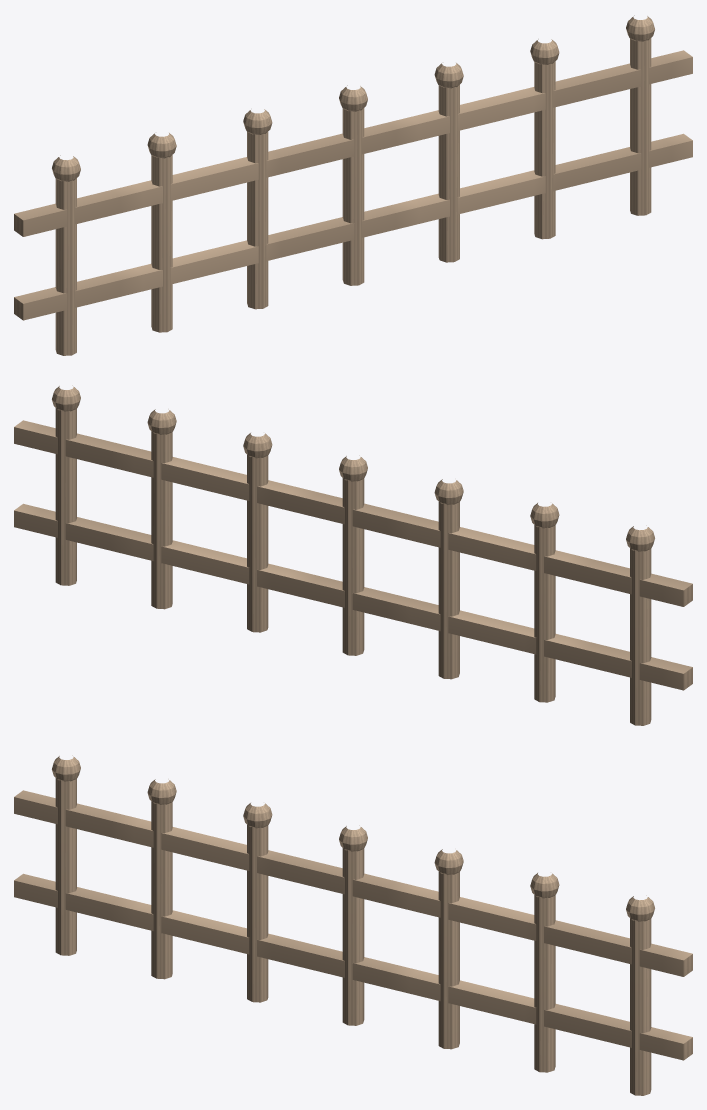
The model's file is garden_fence.glb.
The picture shows the model from 3 angles, top to bottom: view 1: azimuth 30°, elevation 25°; view 2: azimuth 150°, elevation 25°; view 3: azimuth 330°, elevation 25°; orthographic projection.
Visible parts, largest first — view 1: garden_fence; view 2: garden_fence; view 3: garden_fence.
Boxes of the visible parts, x1,y1,x2,y2 form: garden_fence: (14,15,692,355); garden_fence: (14,385,692,725); garden_fence: (14,755,692,1095).
Size of the model in its own units: 4.2 by 1.18 by 0.1522.
Materials: 1 (1 with a texture image).
